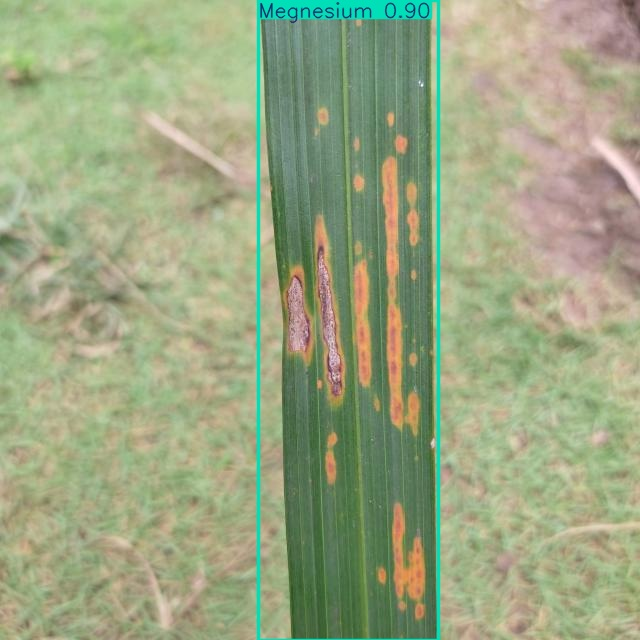Megnesium: (258, 0, 438, 640)
